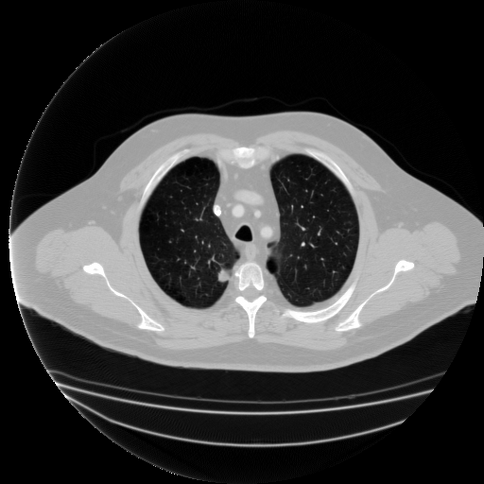nodule: (216, 270, 228, 282)
